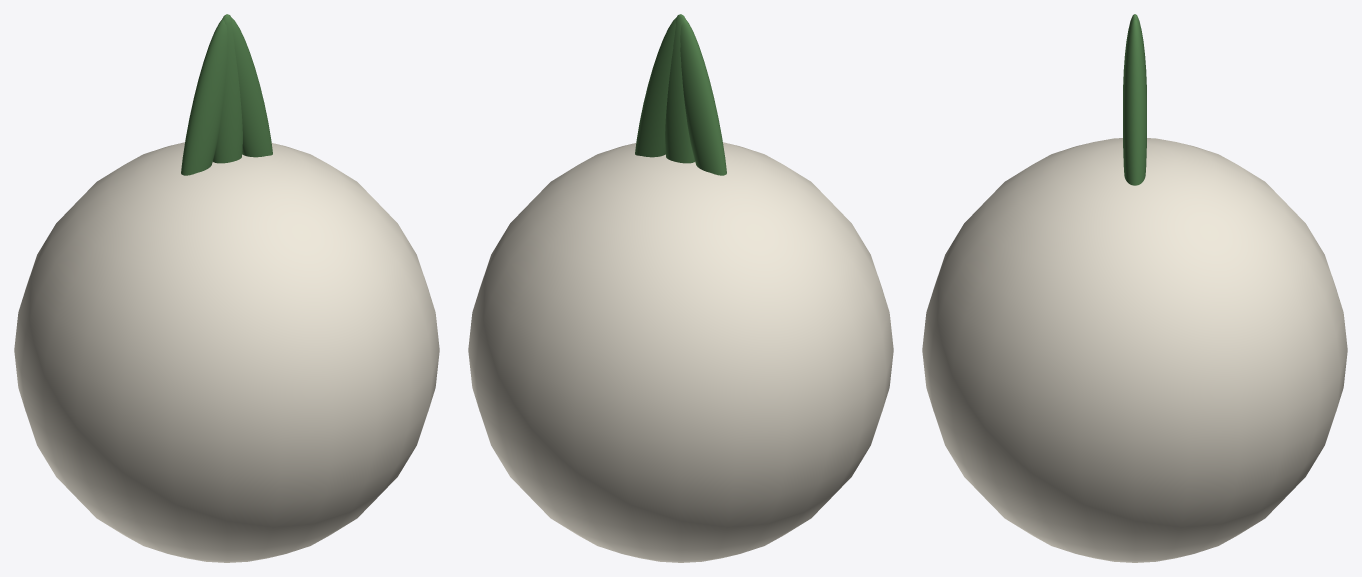
The model's file is wp-navet.glb.
3 views of the same model, side by side, from view 1: azimuth 30°, elevation 25°; view 2: azimuth 150°, elevation 25°; view 3: azimuth 270°, elevation 25° (orthographic).
Parts seen in each view (by area): view 1: wp-navet; view 2: wp-navet; view 3: wp-navet.
Boxes of the visible parts, x1,y1,x2,y2 form: wp-navet: [14, 14, 439, 562]; wp-navet: [468, 14, 893, 562]; wp-navet: [922, 14, 1347, 562].
Bounding box in the file's own units: 0.08 × 0.1098 × 0.08.
